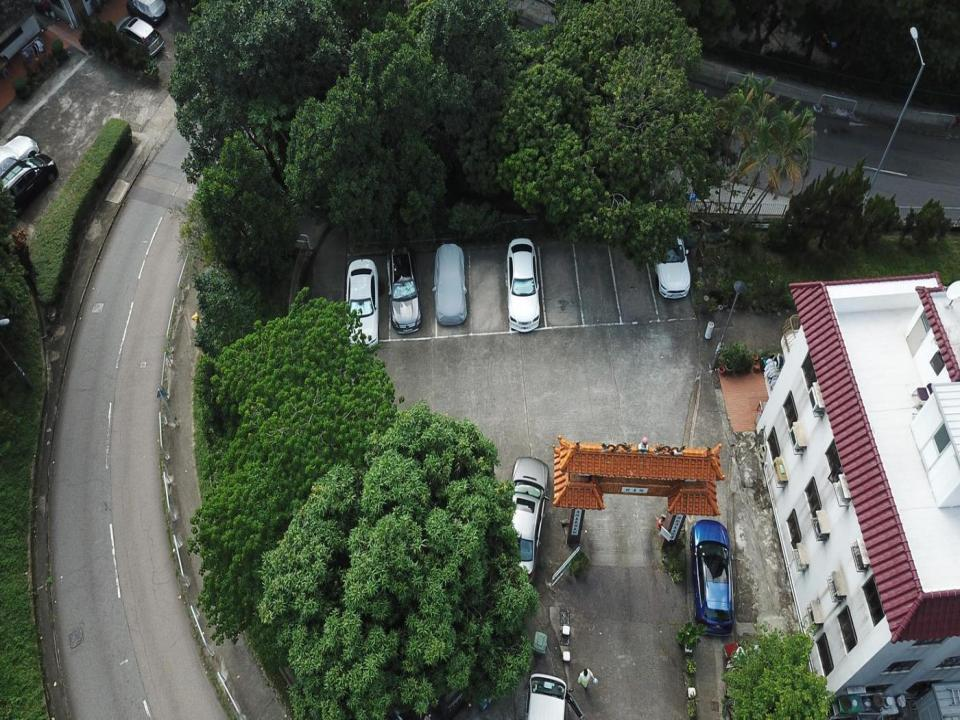car: (498, 455, 550, 583), (689, 518, 736, 637), (648, 212, 693, 300), (0, 151, 58, 219), (385, 240, 423, 334), (344, 256, 380, 352), (505, 236, 540, 332), (431, 243, 469, 328), (112, 16, 164, 60), (0, 133, 40, 188), (125, 0, 169, 25)
van: (522, 672, 585, 719)
